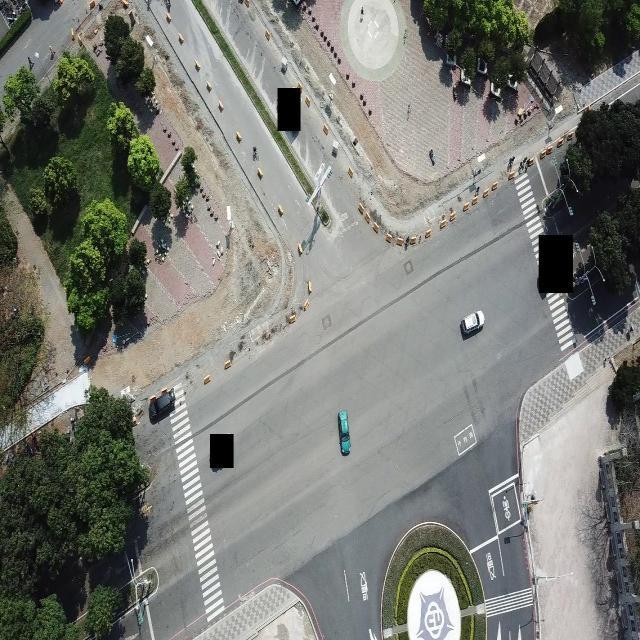car: (149, 385, 174, 422), (338, 408, 352, 455), (461, 310, 484, 337)
